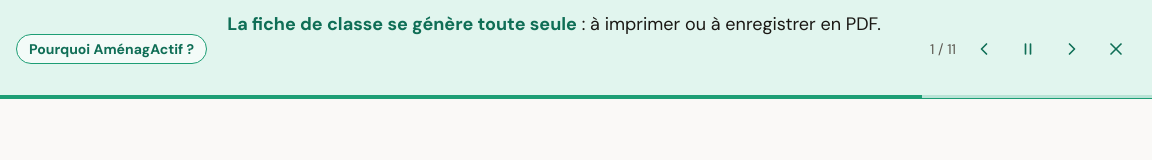
Test case: bandeau d'avantages › précédent / suivant naviguent à la main et remettent le minuteur à zéro
This screenshot has width=1152, height=160.
Click the button named "Message suivant" at [1072, 49], box [1052,29,1092,69]
Wait 8000 ms
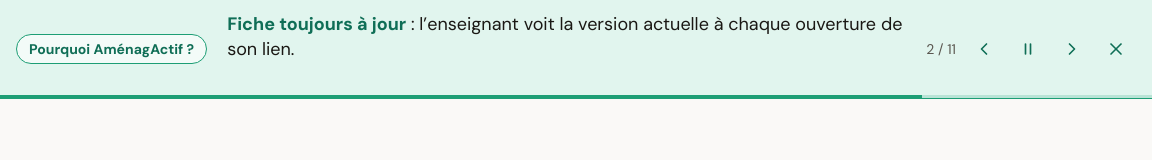
Now the text "La fiche de classe se génère toute seule" is gone
Now the text "Fiche toujours à jour" is shown, box [227,12,406,36]
Click the button named "Message précédent" at [984, 49], box [964,29,1004,69]
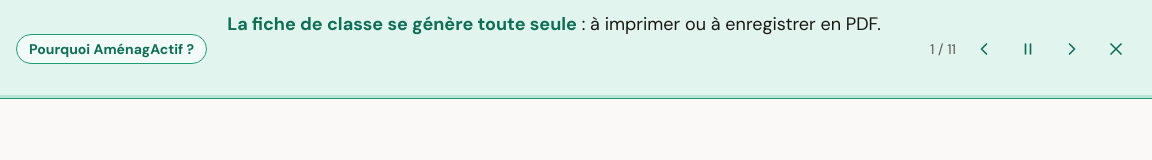
Now the text "La fiche de classe se génère toute seule" is shown, box [227,12,577,36]
